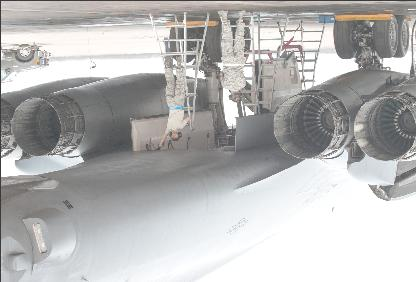AV8B: (1, 13, 415, 279)
